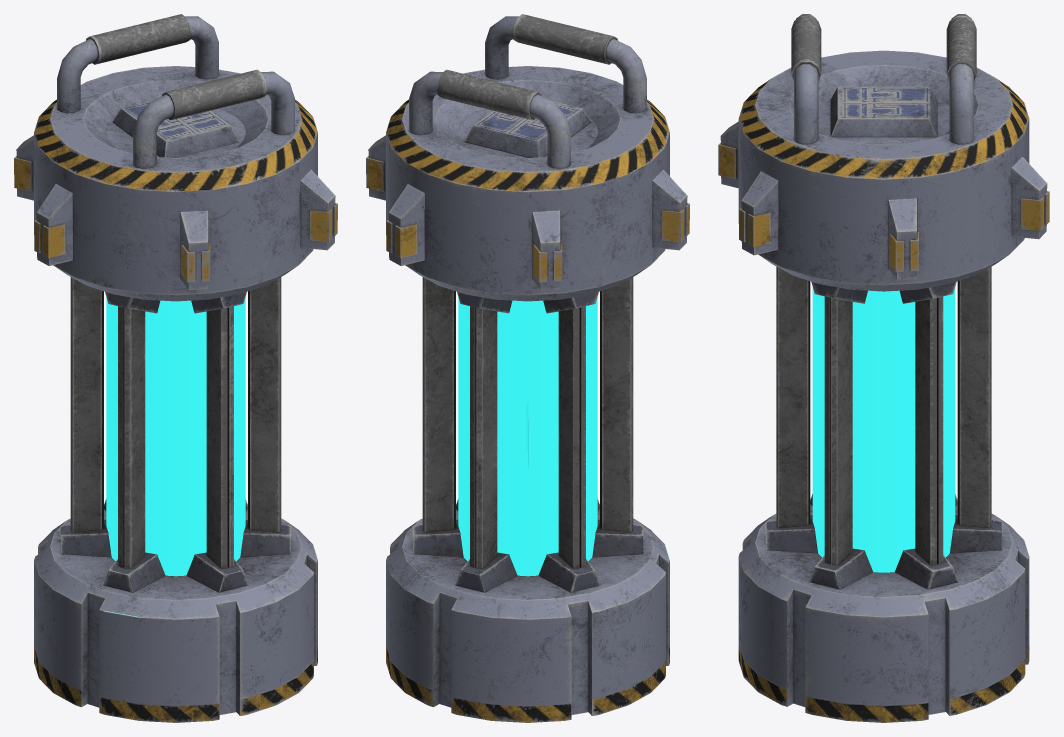
Rendered from Battery07.glb.
3 renders of one model, left to right at view 1: azimuth 30°, elevation 25°; view 2: azimuth 150°, elevation 25°; view 3: azimuth 270°, elevation 25°, orthographic. The views are drawn at different scales.
Parts seen in each view (by area): view 1: Circle; view 2: Circle; view 3: Circle.
Part boxes in pixels (x1,y1,x2,y2): Circle: [14, 14, 337, 722]; Circle: [366, 14, 689, 722]; Circle: [718, 14, 1049, 722].
Bounding box in the file's own units: 1.2 × 2.37 × 1.14.
Materials: 1 (1 with a texture image).
